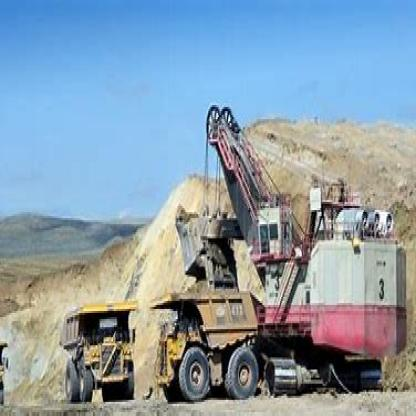dump_truck: (151, 285, 261, 406), (51, 285, 138, 404)
